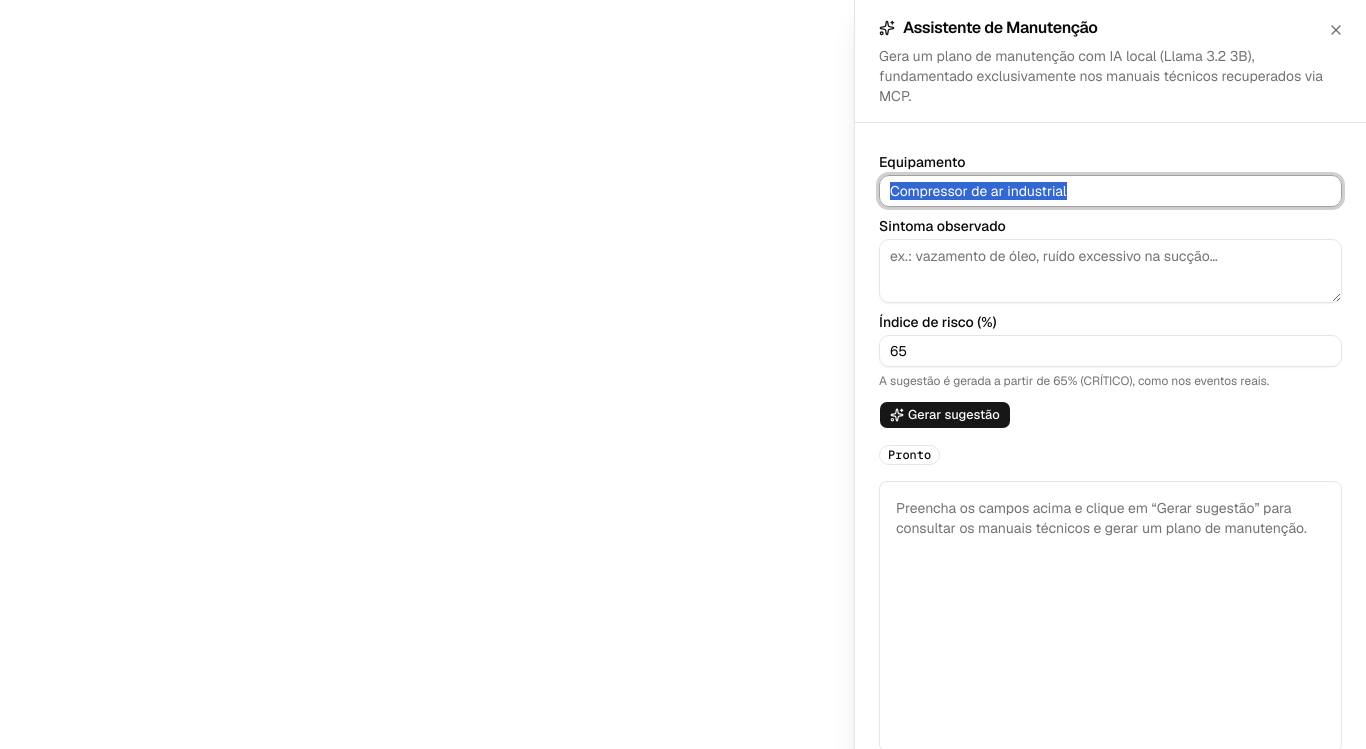
Test: MaintenanceAssistant › G) mostra o estado 'Concluído' após o evento done
Click the button "Gerar sugestão" at (945, 415), box x1=879 y1=401 x2=1011 y2=429
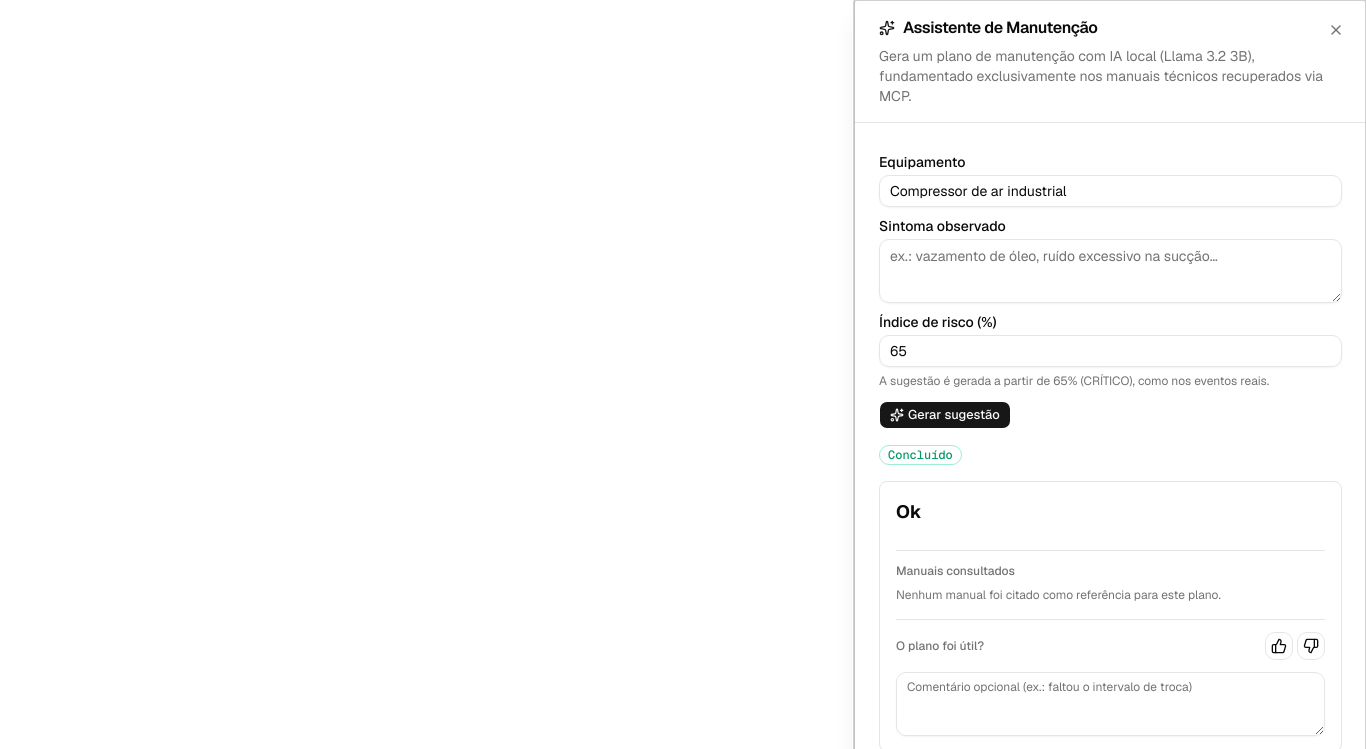
Now the text "Concluído" is shown, box x1=879 y1=445 x2=962 y2=465
